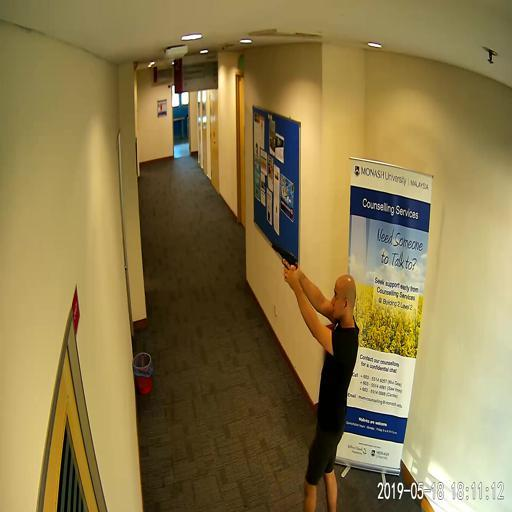Handgun: (270, 242, 298, 282)
